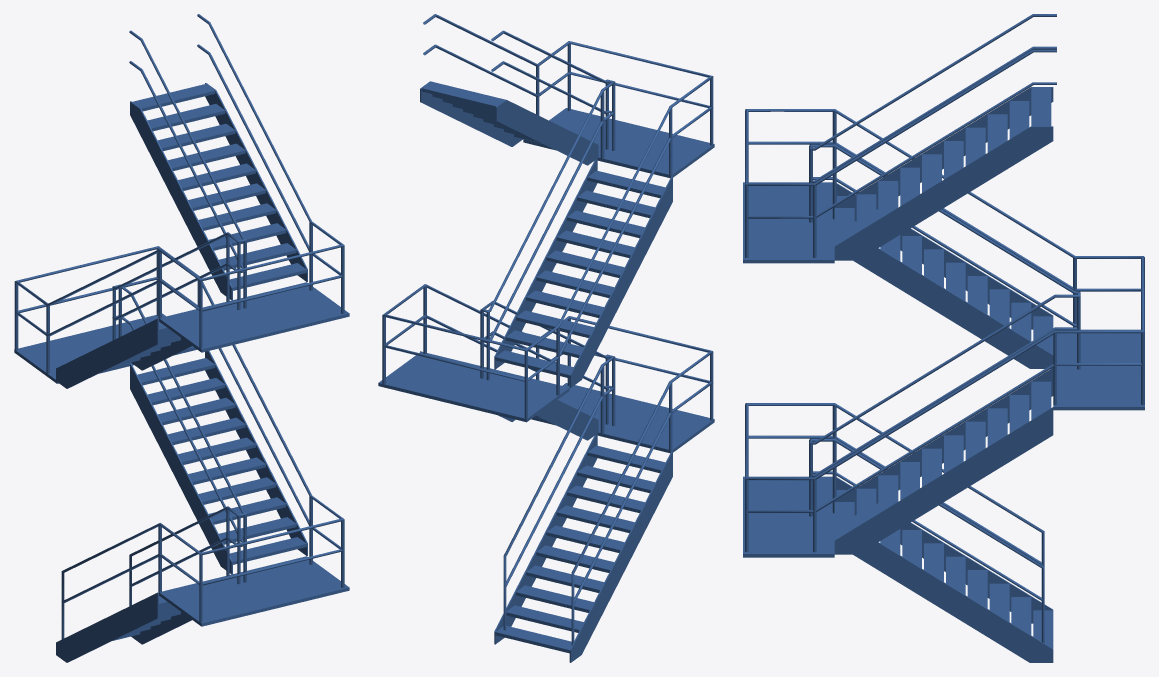
File: Stair3.FBX
3 views of the same model, side by side, from view 1: azimuth 30°, elevation 25°; view 2: azimuth 150°, elevation 25°; view 3: azimuth 270°, elevation 25° (orthographic). The views are drawn at different scales.
Visible parts, largest first — view 1: Stair3; view 2: Stair3; view 3: Stair3.
Boxes of the visible parts, x1,y1,x2,y2 form: Stair3: (14, 14, 349, 662); Stair3: (378, 14, 714, 662); Stair3: (743, 14, 1144, 662).
Size of the model in its own units: 2440 by 9373 by 5261.
